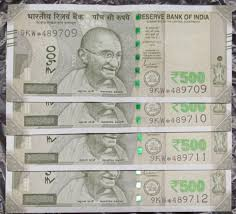fiveHundred: (21, 24, 213, 88)
